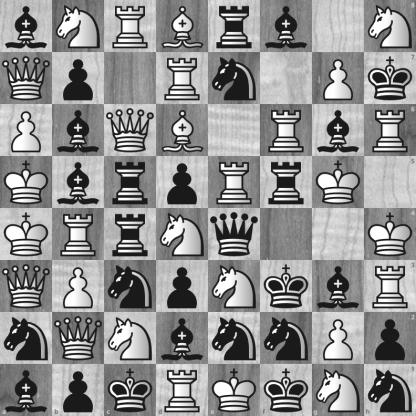B: (157, 1, 208, 52), (157, 105, 208, 156)
K: (209, 364, 260, 416), (364, 209, 416, 260), (1, 157, 52, 208), (1, 209, 52, 260), (313, 157, 364, 208)
N: (312, 364, 364, 416), (364, 0, 416, 52), (53, 1, 104, 52), (105, 313, 156, 364), (157, 209, 208, 260), (209, 261, 260, 312)
P: (1, 105, 52, 156), (53, 261, 104, 312), (313, 53, 364, 104), (313, 313, 364, 364)
Q: (1, 53, 52, 104), (1, 261, 52, 312), (53, 313, 104, 364), (105, 105, 156, 156)
R: (156, 364, 209, 416), (364, 104, 416, 156), (364, 260, 416, 312), (53, 209, 104, 260), (105, 1, 156, 52), (157, 53, 208, 104), (209, 157, 260, 208), (261, 105, 312, 156)
b: (0, 364, 52, 416), (1, 1, 52, 52), (53, 105, 104, 156), (53, 157, 104, 208), (157, 313, 208, 364), (261, 1, 312, 52), (313, 105, 364, 156), (313, 261, 364, 312)
board: (0, 0, 415, 415)
k: (104, 364, 156, 416), (260, 364, 312, 416), (364, 52, 416, 104), (261, 261, 312, 312)
n: (364, 364, 416, 416), (1, 313, 52, 364), (105, 261, 156, 312), (209, 53, 260, 104), (209, 313, 260, 364), (261, 313, 312, 364)
p: (52, 364, 104, 416), (364, 312, 416, 364), (53, 53, 104, 104), (157, 157, 208, 208), (157, 261, 208, 312)
q: (209, 209, 260, 260)
r: (105, 157, 156, 208), (105, 209, 156, 260), (209, 1, 260, 52), (261, 157, 312, 208)
